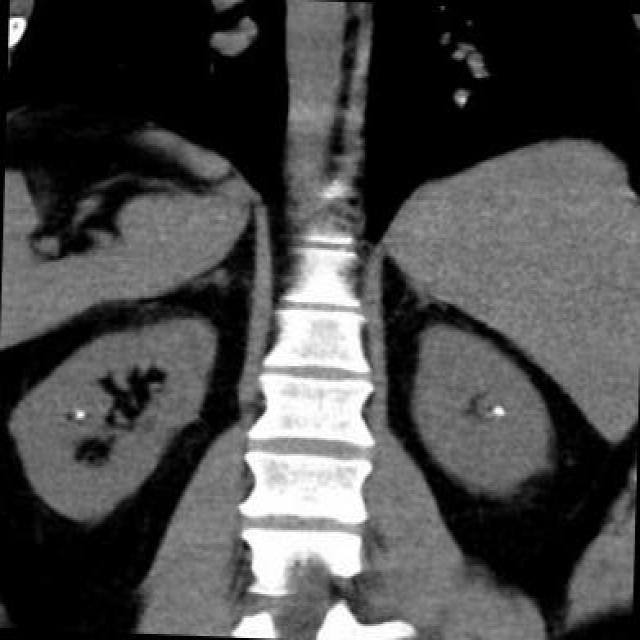Tas_Var: (491, 398, 506, 424), (70, 408, 88, 422)
